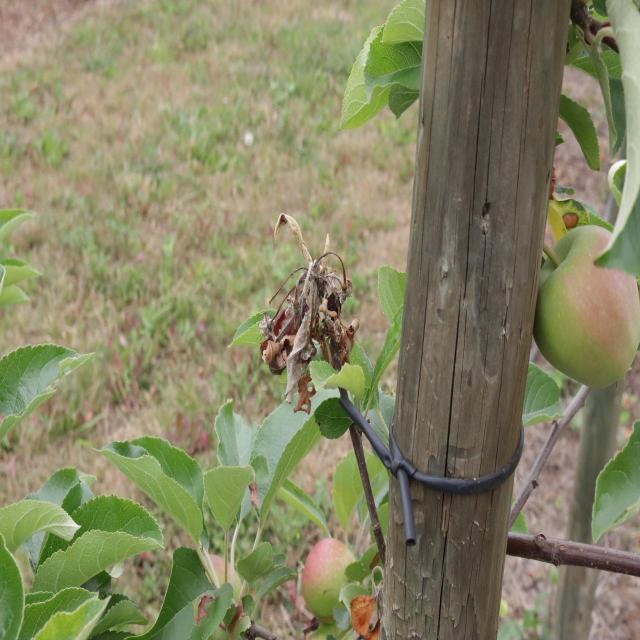-FireBlight-: (271, 216, 360, 383)
